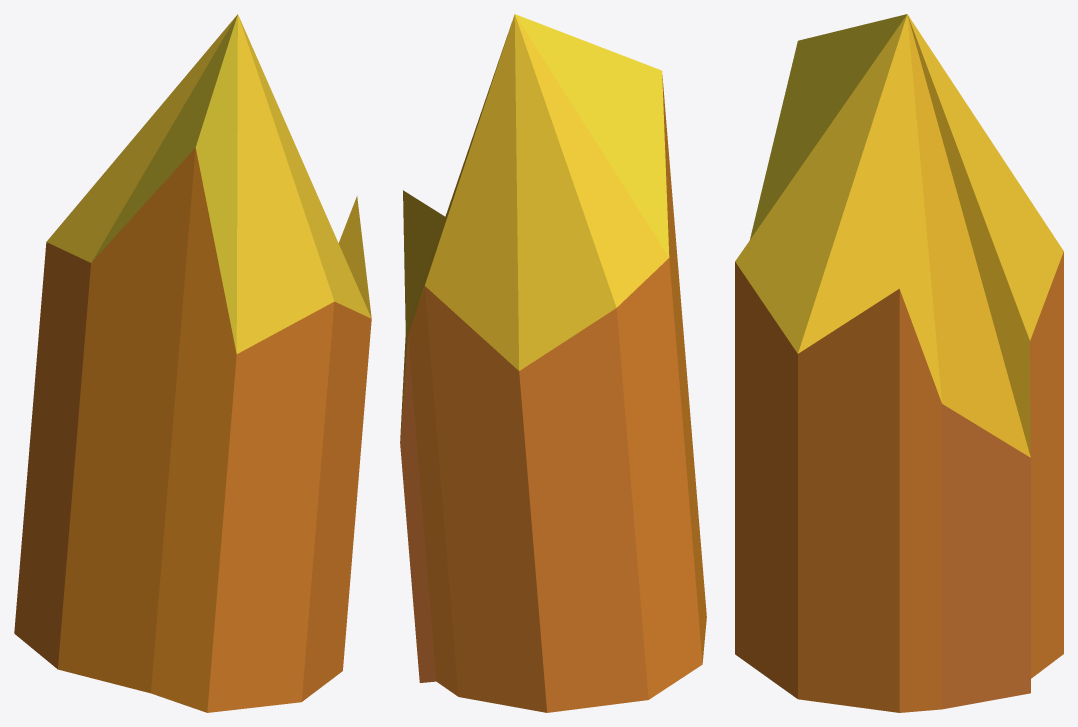
The model's file is fire_yellow.glb.
3 renders of one model, left to right at view 1: azimuth 30°, elevation 25°; view 2: azimuth 150°, elevation 25°; view 3: azimuth 270°, elevation 25°, orthographic. The views are drawn at different scales.
Parts seen in each view (by area): view 1: Fire_Yellow.001; view 2: Fire_Yellow.001; view 3: Fire_Yellow.001.
Boxes of the visible parts, left/top/right/bottom form: Fire_Yellow.001: left=14, top=14, right=371, bottom=712; Fire_Yellow.001: left=400, top=14, right=706, bottom=712; Fire_Yellow.001: left=735, top=14, right=1063, bottom=712.
Bounding box in the file's own units: 0.0623 × 0.1261 × 0.0568.
